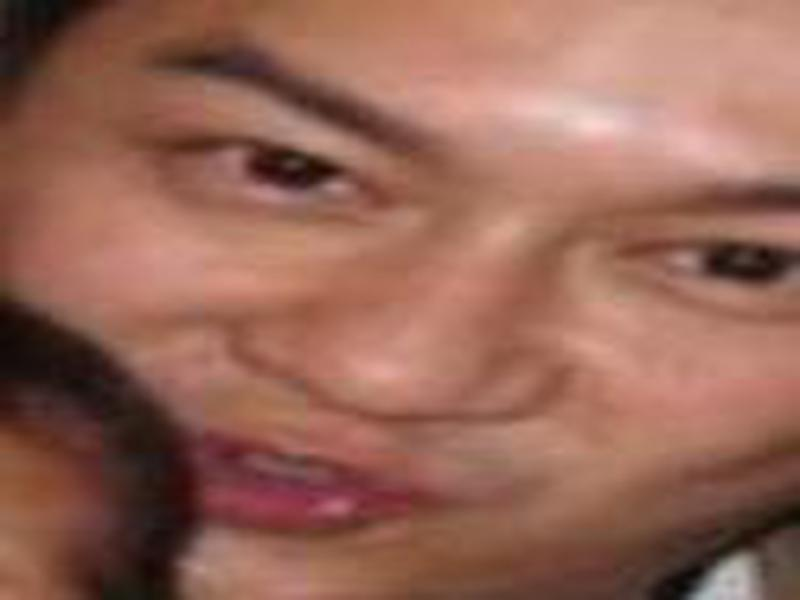without_mask: (17, 12, 791, 589)
